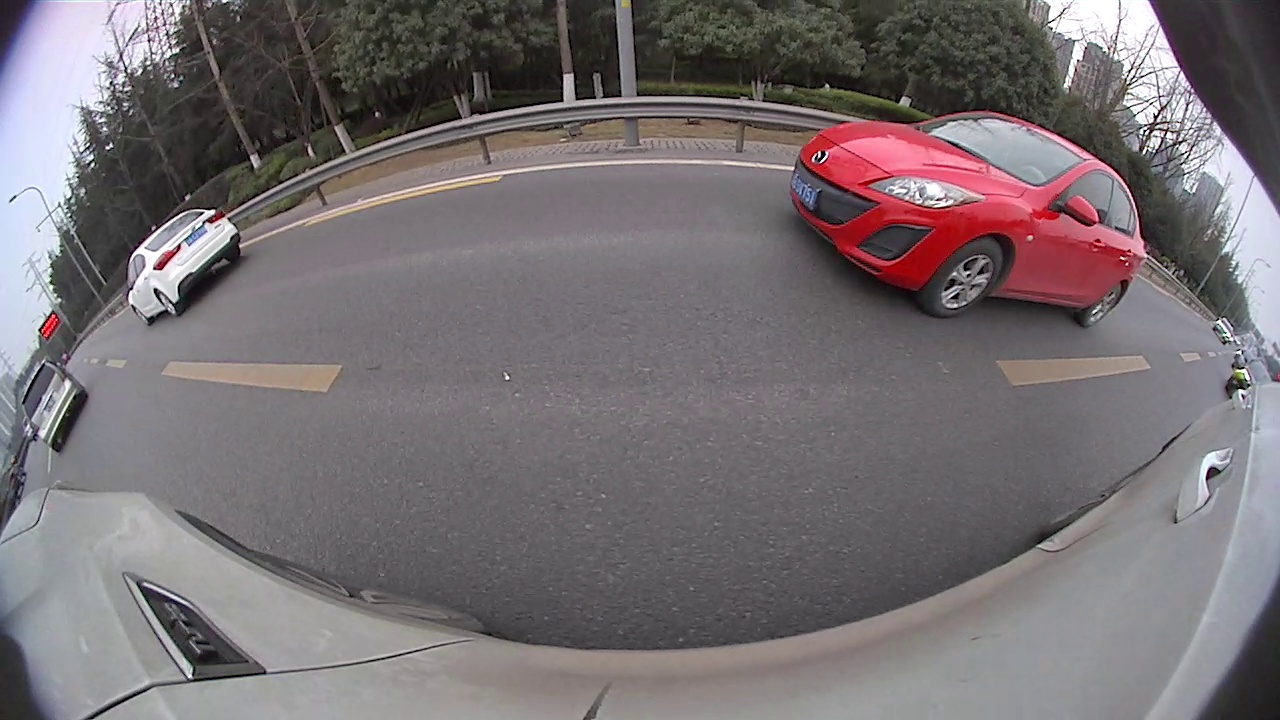car: (788, 109, 1149, 330), (125, 205, 243, 327), (20, 358, 89, 453)
front: (928, 240, 1004, 317)
rear: (1084, 284, 1122, 328), (155, 291, 180, 317)
